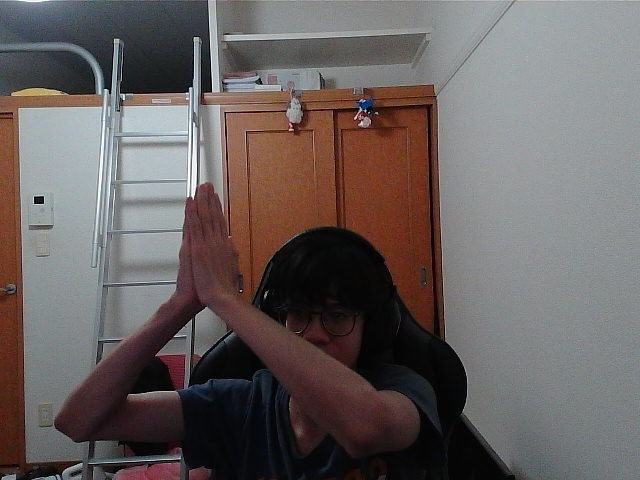pray: (192, 189, 228, 281)
